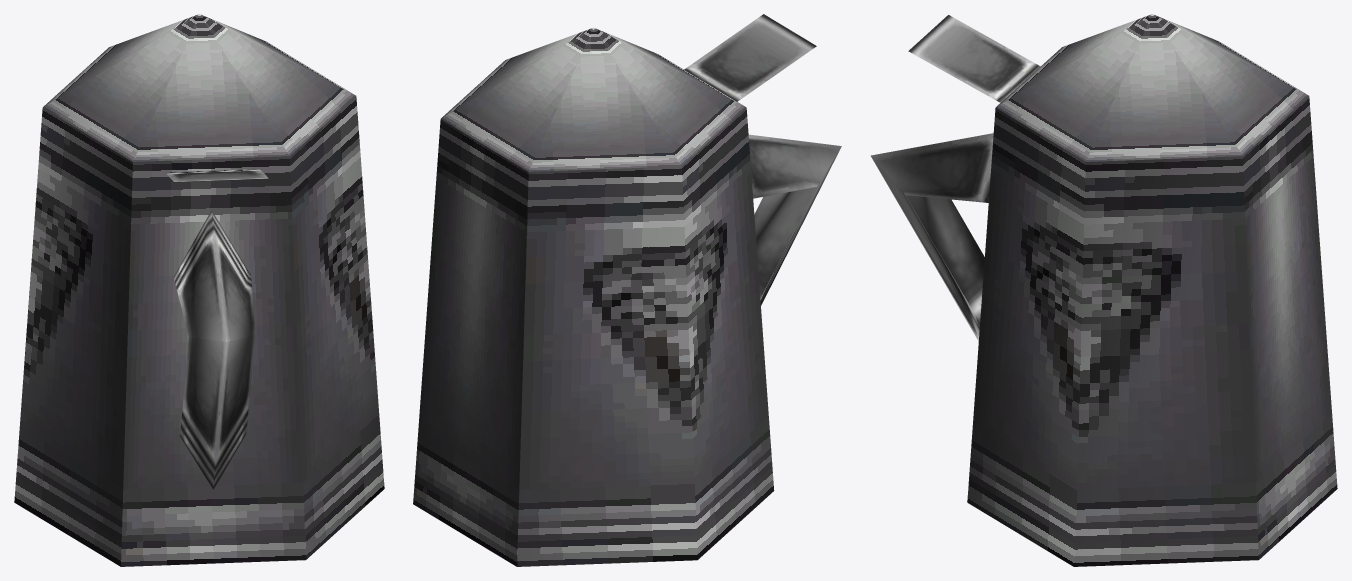
File: stein.glb
The picture shows the model from 3 angles, left to right: view 1: azimuth 30°, elevation 25°; view 2: azimuth 150°, elevation 25°; view 3: azimuth 270°, elevation 25°; orthographic projection. The views are drawn at different scales.
Size of the model in its own units: 0.1996 by 0.315 by 0.2768.
3 materials, 3 textured.
